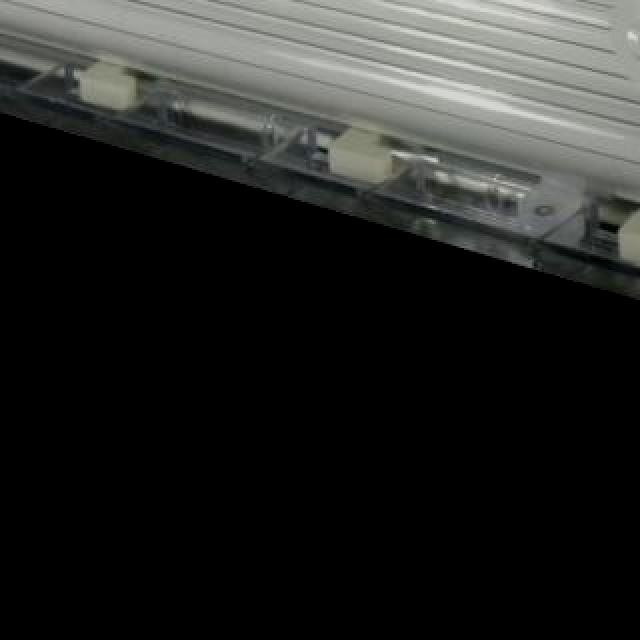fluorescent tube: (0, 0, 640, 296)
